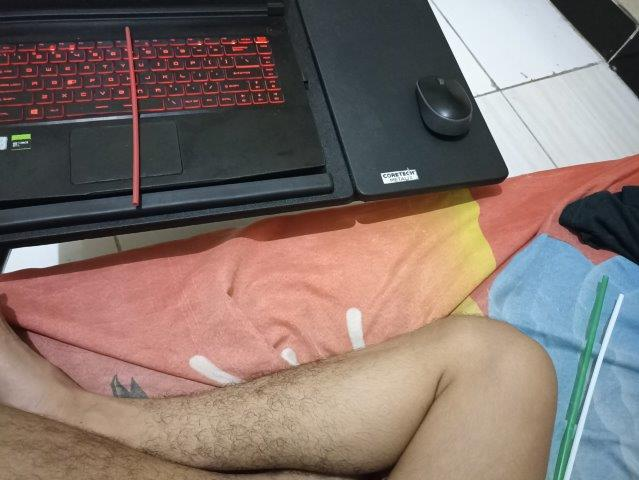sedotan: (124, 27, 139, 204)
